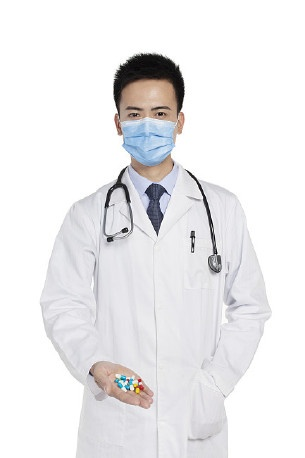Mask: (117, 101, 178, 162)
